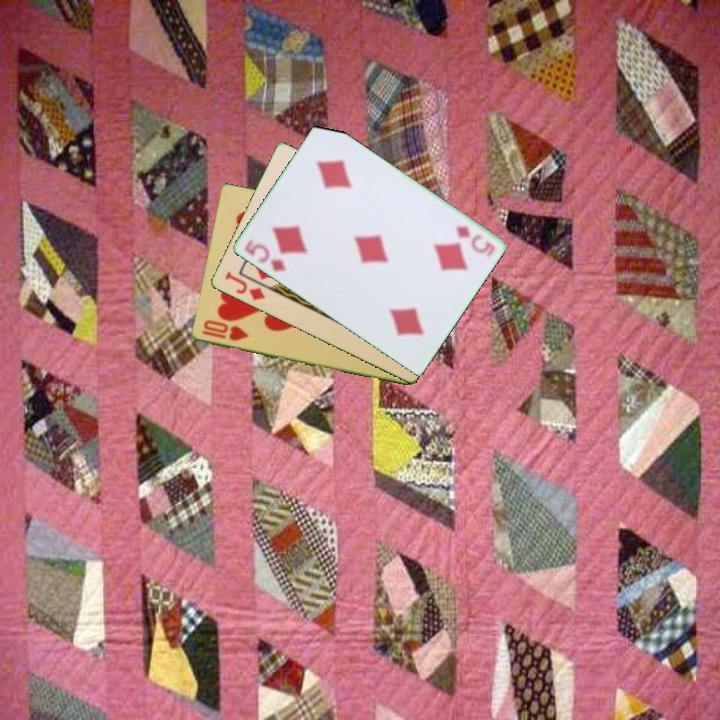10h: (198, 317, 251, 344)
5d: (241, 235, 288, 275), (452, 222, 498, 258)
Jd: (221, 268, 268, 303)
